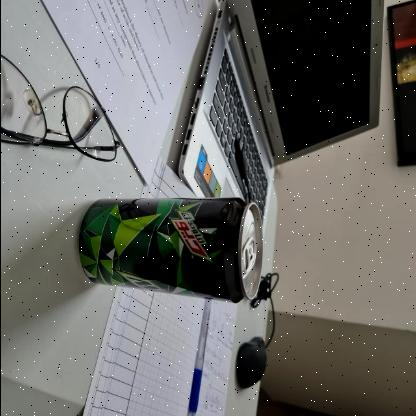Can: (76, 196, 262, 304)
